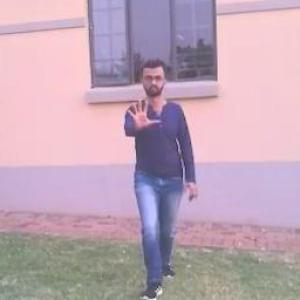follow_hand: (117, 89, 162, 132)
